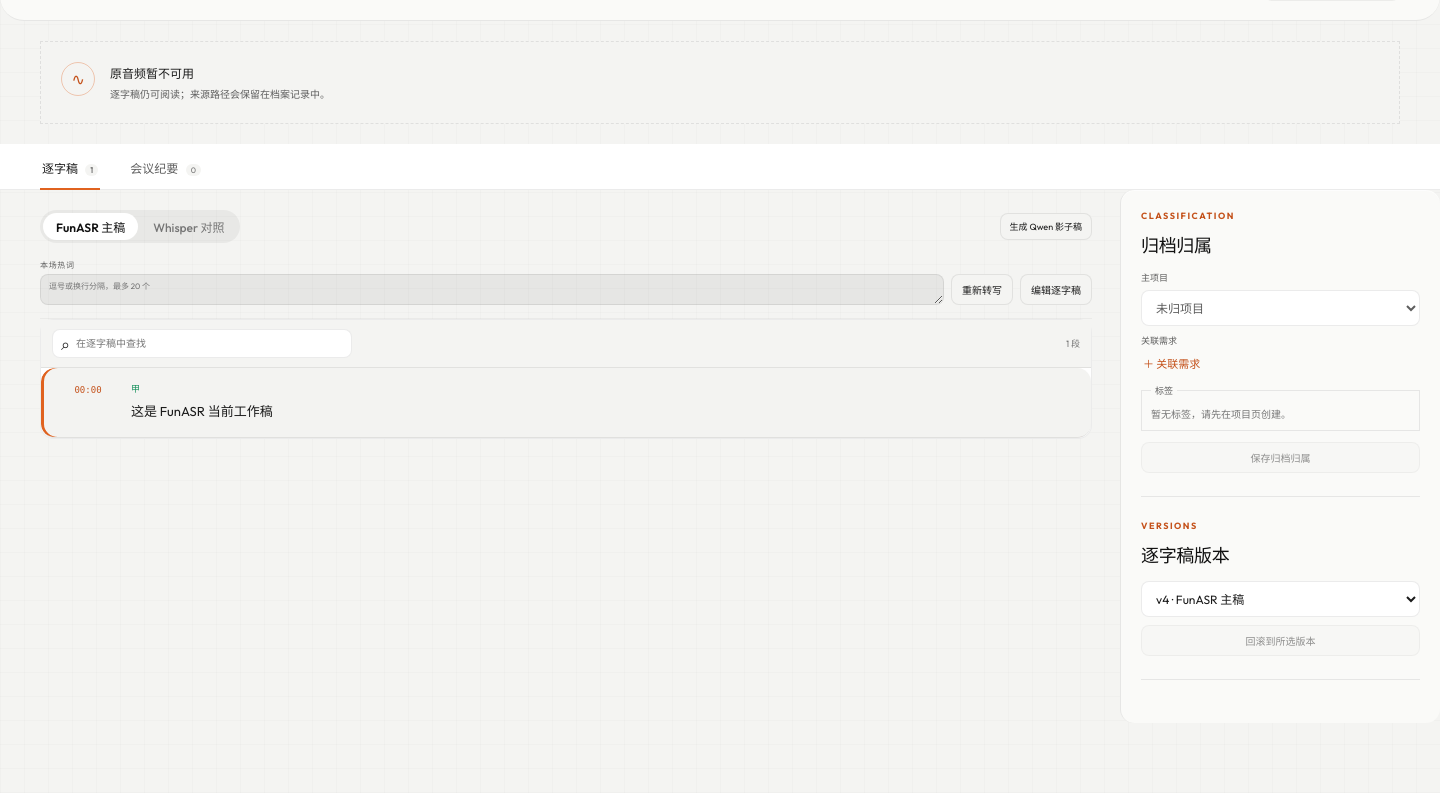
Scenario: MeetingDetailPage Whisper comparison › loads the comparison contract for risk review and keeps the candidate tied to its version
This screenshot has width=1440, height=793.
(page scrolled)
Click the button "Whisper 对照": click(189, 226) [140,213,237,240]
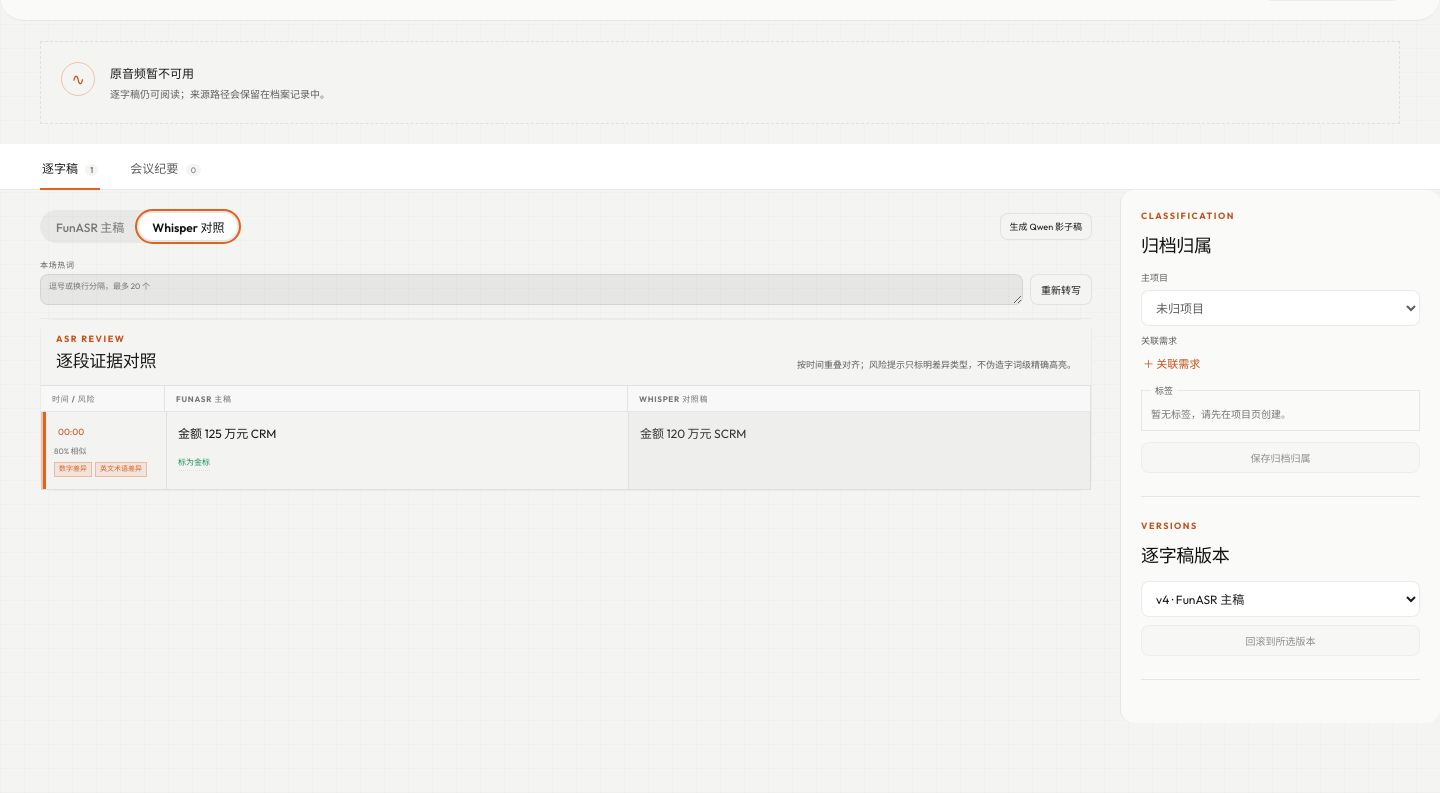
Check: the text "数字差异" is shown, box [54,462,92,477]
Check: the text "英文术语差异" is shown, box [95,462,147,477]
